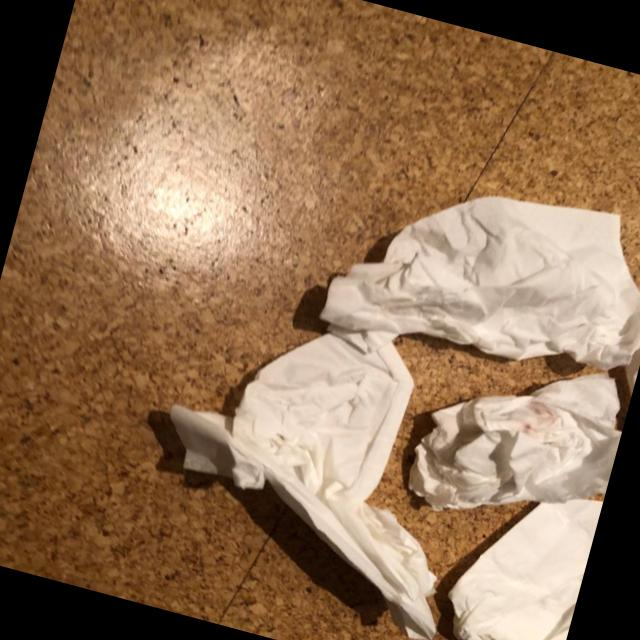organic waste: (130, 284, 515, 640), (318, 141, 640, 394), (390, 326, 635, 557), (421, 458, 605, 640)
